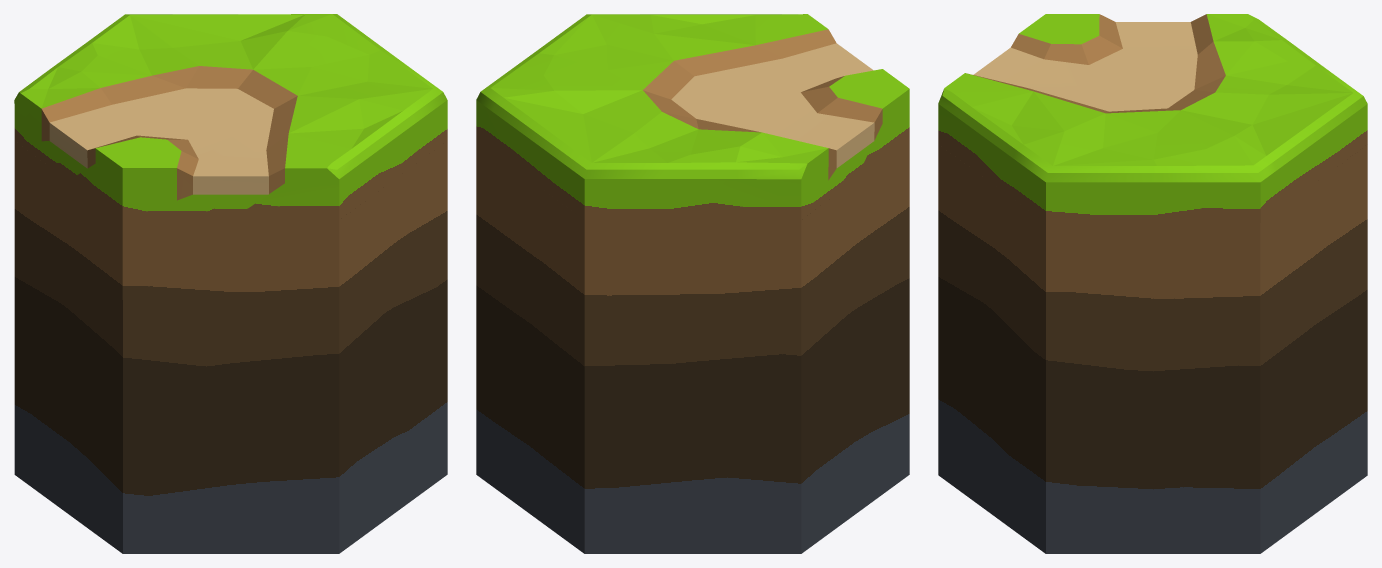
The model's file is HexTilePath_Curved2.glb.
The picture shows the model from 3 angles, left to right: view 1: azimuth 30°, elevation 25°; view 2: azimuth 150°, elevation 25°; view 3: azimuth 270°, elevation 25°; orthographic projection.
Visible parts, largest first — view 1: HexTilePath_Curved2; view 2: HexTilePath_Curved2; view 3: HexTilePath_Curved2.
Boxes of the visible parts, bbox=[...] form: HexTilePath_Curved2: bbox=[14, 14, 447, 553]; HexTilePath_Curved2: bbox=[476, 14, 909, 553]; HexTilePath_Curved2: bbox=[938, 14, 1367, 553].
Bounding box in the file's own units: 1.73 × 1.99 × 2.
1 material, 1 textured.
